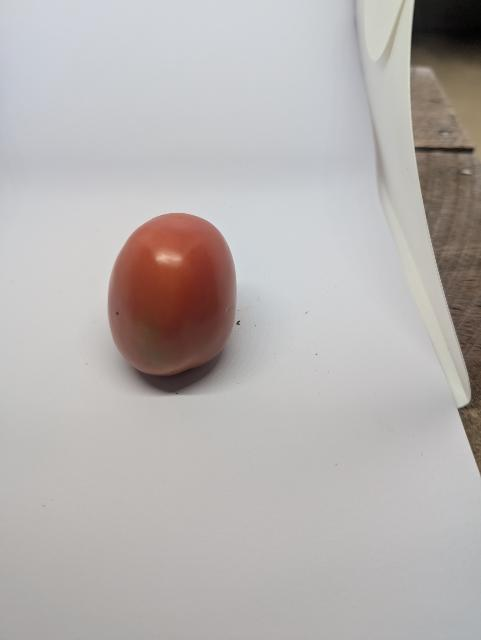red: (101, 205, 242, 400)
